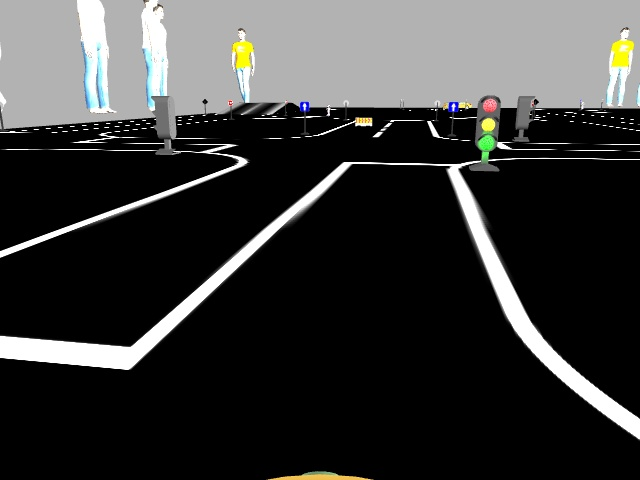ClosedRoadStand: (355, 117, 371, 126)
OneWay: (449, 101, 457, 111), (300, 101, 308, 111)
TrafficLight: (474, 95, 500, 150)
